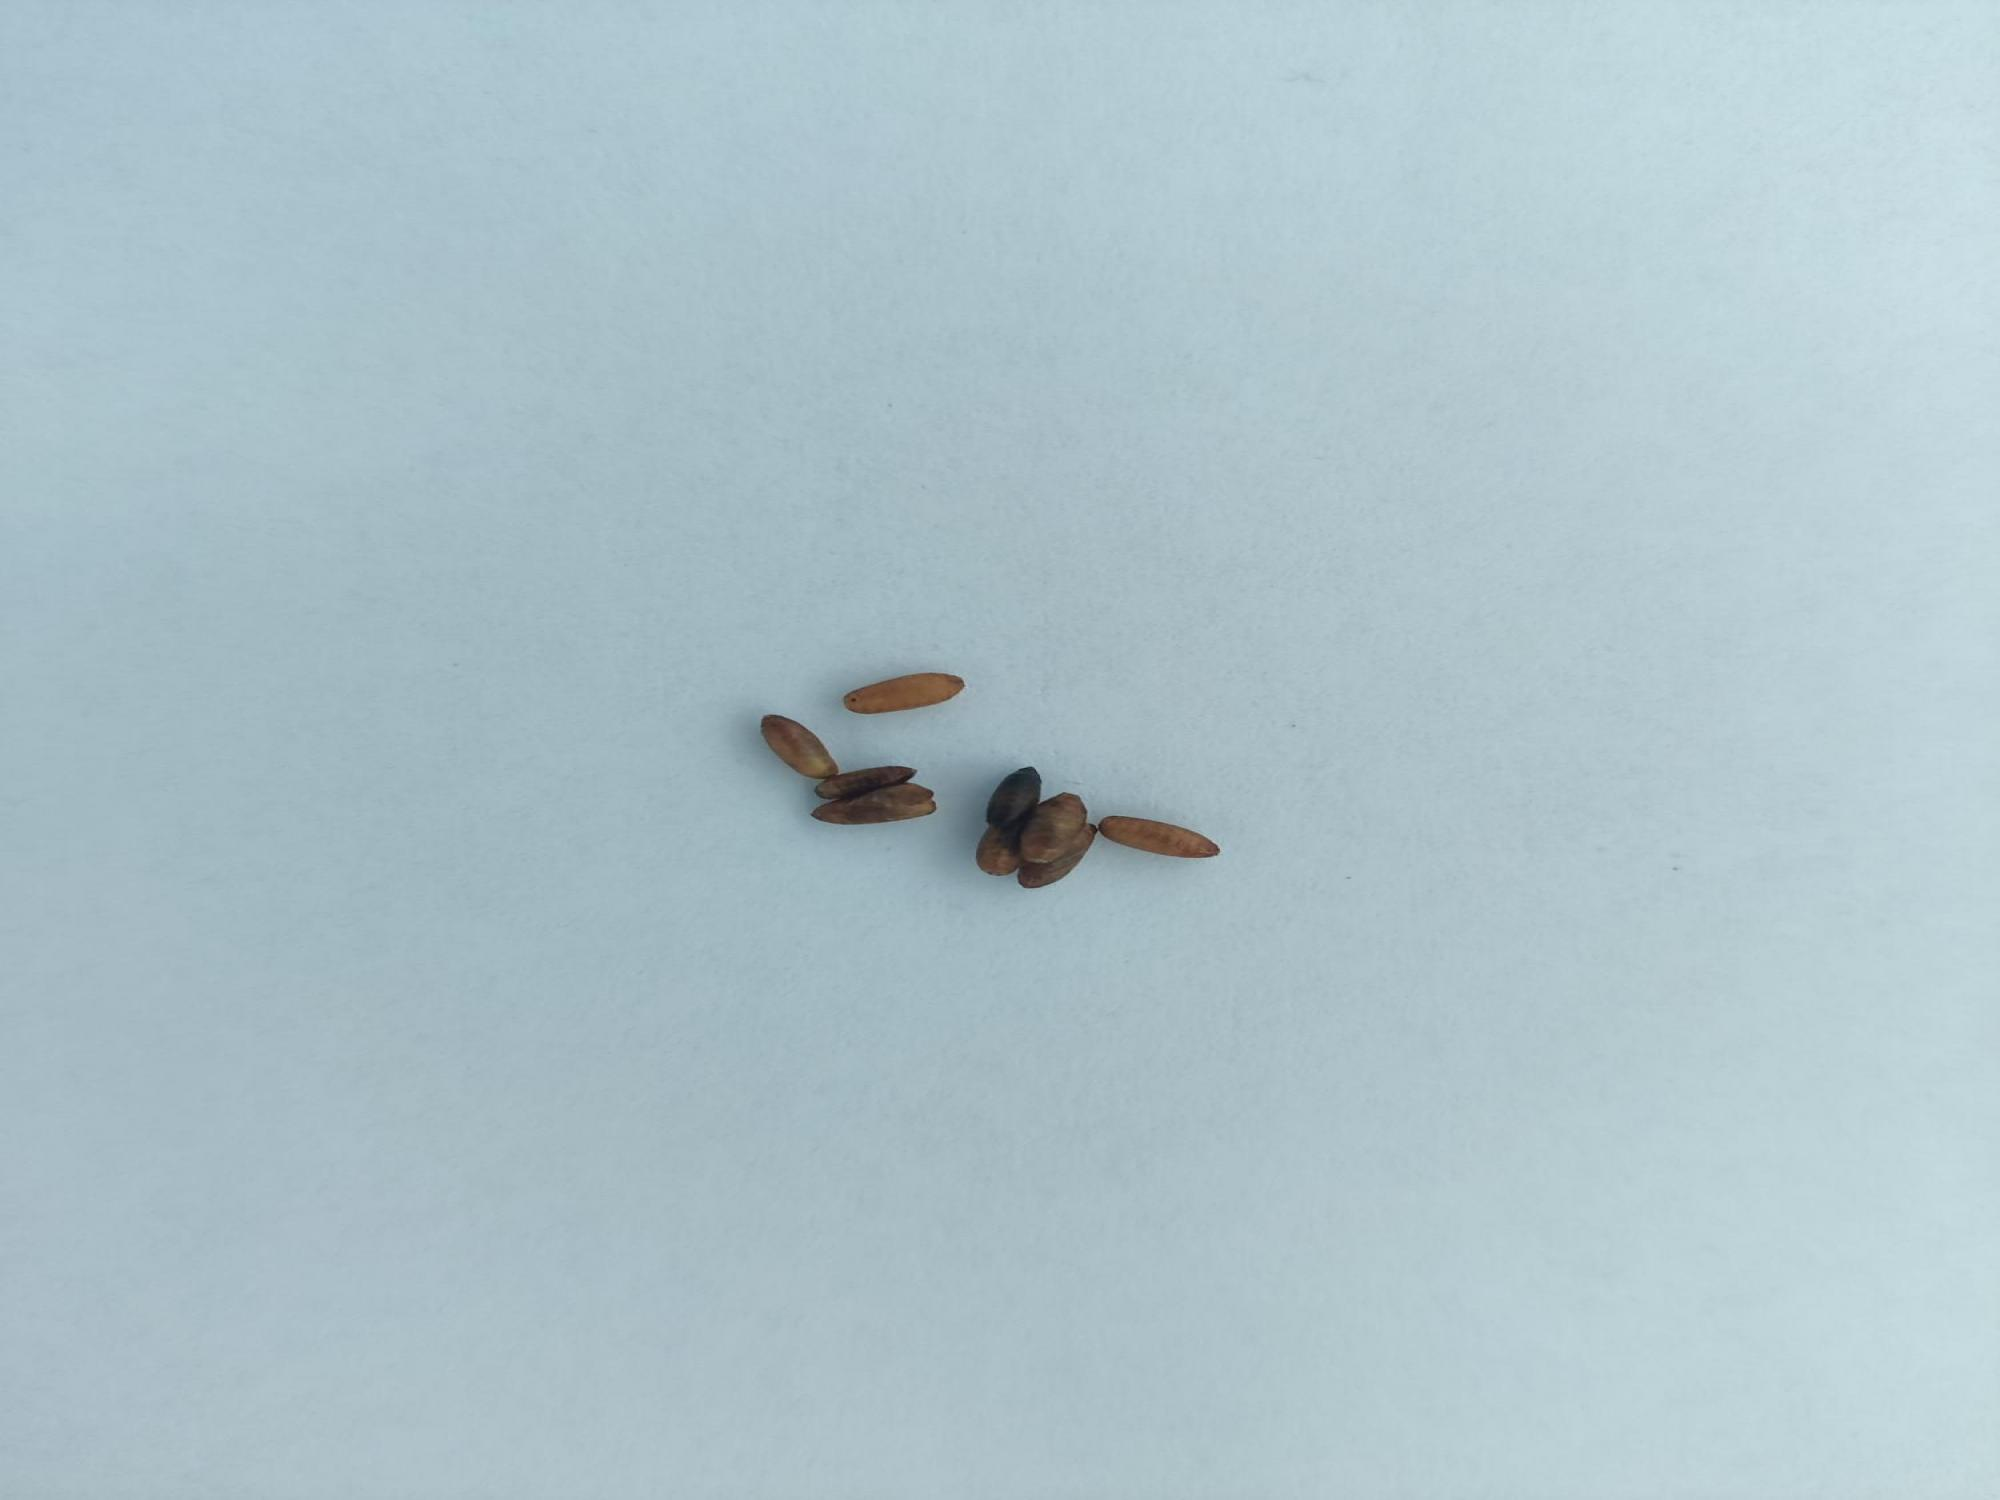pupae: (1005, 786, 1094, 867), (1091, 813, 1236, 862), (838, 670, 976, 717), (1014, 824, 1102, 898), (756, 714, 839, 782), (975, 763, 1052, 829), (809, 761, 926, 804), (808, 793, 942, 827), (973, 826, 1019, 887), (852, 783, 939, 810)
